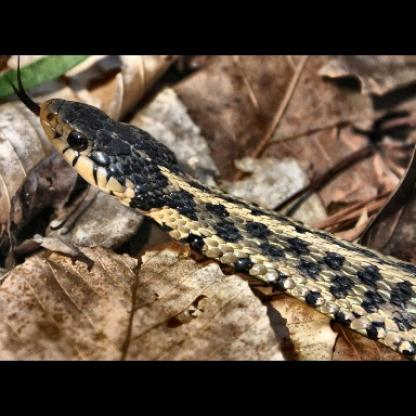Snake: (32, 93, 416, 339)
